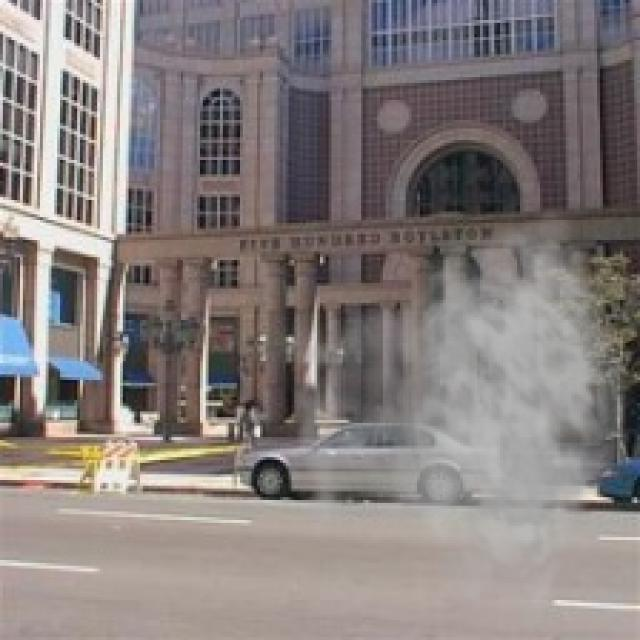smoke: (263, 208, 628, 612)
